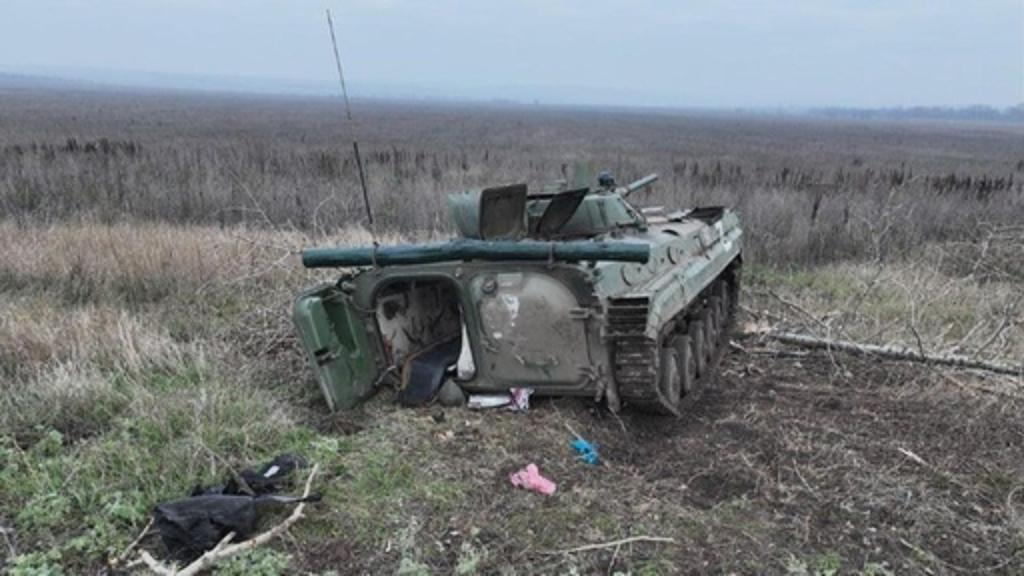APC-IFV: (288, 162, 756, 428)
